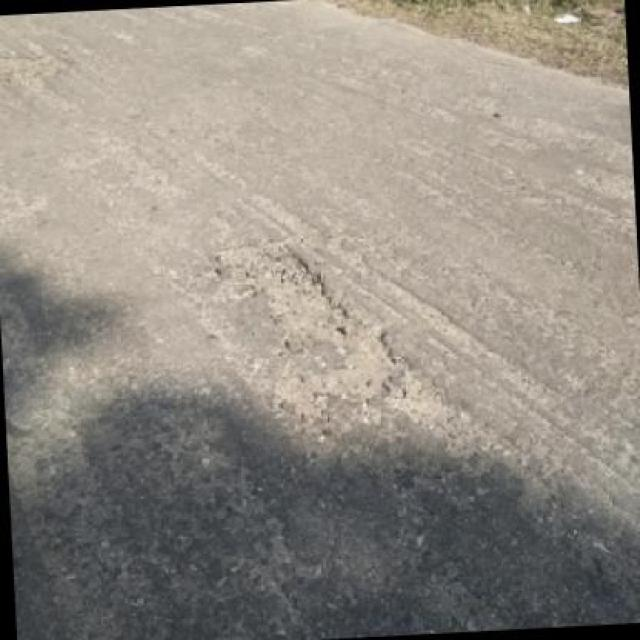pothole: (210, 232, 410, 425)
